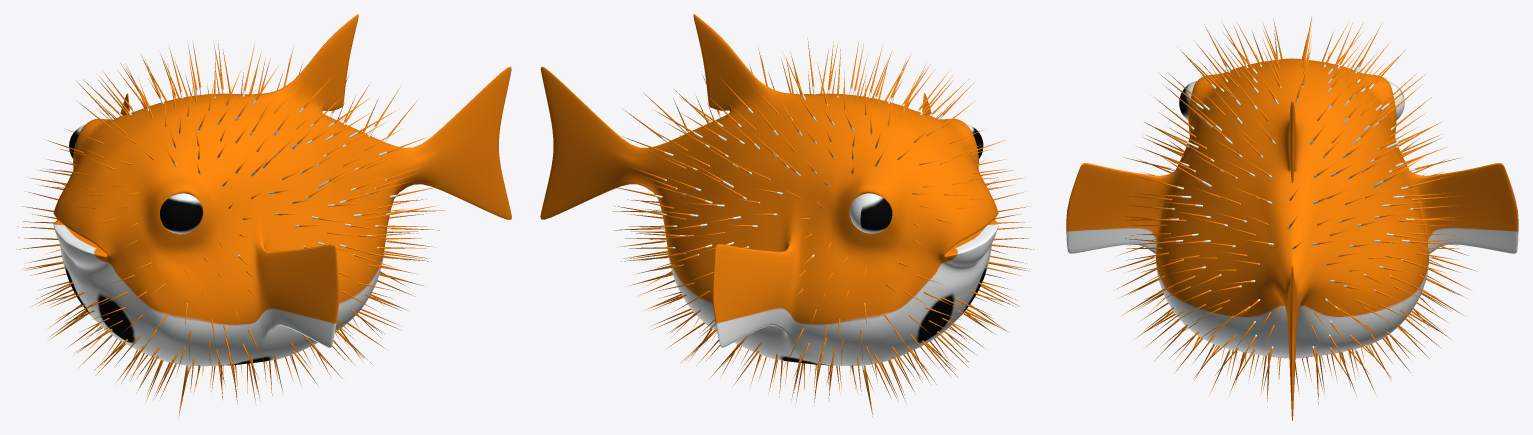
File: GlobMod.fbx
3 views of the same model, side by side, from view 1: azimuth 30°, elevation 25°; view 2: azimuth 150°, elevation 25°; view 3: azimuth 270°, elevation 25° (orthographic).
Visible parts, largest first — view 1: polySurface28, Sphere001; view 2: polySurface28, Sphere002; view 3: polySurface28.
Boxes of the visible parts, bbox=[...] form: polySurface28: bbox=[53, 14, 511, 366]; Sphere001: bbox=[160, 193, 203, 234]; polySurface28: bbox=[540, 14, 998, 365]; Sphere002: bbox=[849, 193, 892, 233]; polySurface28: bbox=[1066, 58, 1518, 420].
Size of the model in its own units: 44.66 by 30.47 by 37.24.
